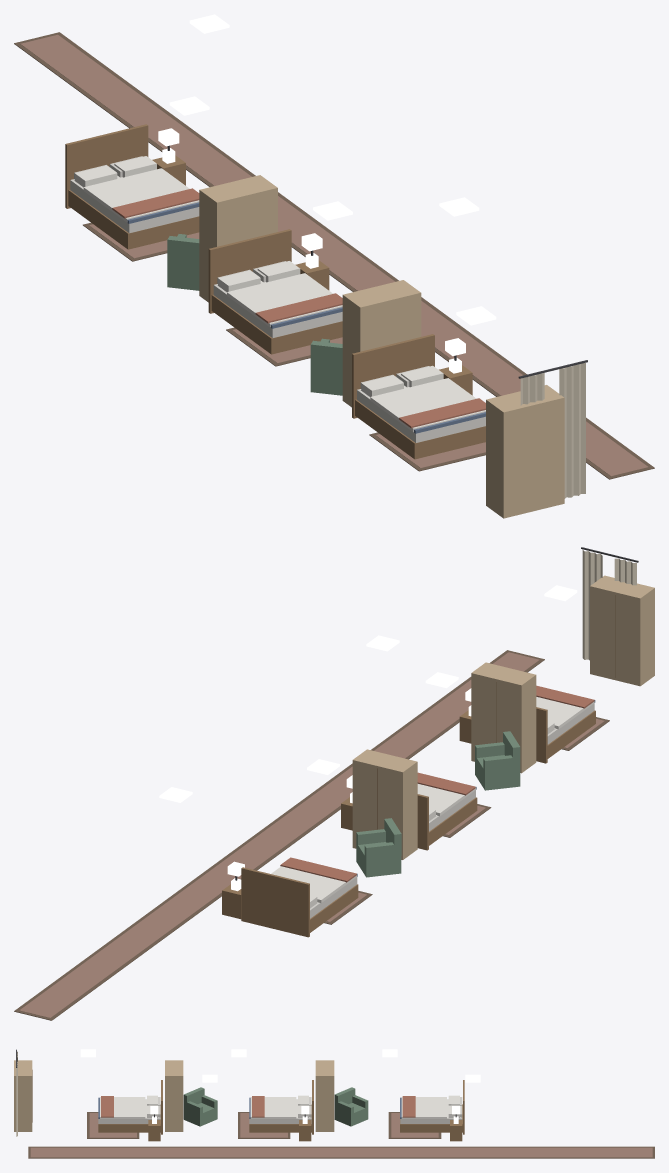
File: fine-s1.glb
3 views of the same model, one above another, from view 1: azimuth 30°, elevation 25°; view 2: azimuth 150°, elevation 25°; view 3: azimuth 270°, elevation 25° (orthographic). The views are drawn at different scales.
Visible parts, largest first — view 1: soft-s1, dresser.002, bed-frame.000, bed-frame.001, bed-frame.002, dresser.001, dresser.000, lounge-chair.000, lounge-chair.001; view 2: soft-s1, dresser.002, dresser.000, dresser.001, bed-frame.000, lounge-chair.001, lounge-chair.000, bed-frame.001, bed-frame.002, nightstand.000; view 3: soft-s1, dresser.000, dresser.001, dresser.002, lounge-chair.000, lounge-chair.001, bed-frame.002, bed-frame.000, bed-frame.001, nightstand.000, nightstand.001, nightstand.002.
Part boxes in pixels (bbox=[...]): soft-s1: bbox=[14, 32, 654, 498]; dresser.002: bbox=[486, 385, 564, 518]; bed-frame.000: bbox=[65, 124, 199, 249]; bed-frame.001: bbox=[208, 229, 342, 354]; bed-frame.002: bbox=[352, 334, 485, 459]; dresser.001: bbox=[342, 280, 421, 407]; dresser.000: bbox=[199, 175, 277, 302]; lounge-chair.000: bbox=[167, 234, 199, 290]; lounge-chair.001: bbox=[310, 338, 342, 395]; soft-s1: bbox=[14, 547, 638, 1020]; dresser.002: bbox=[590, 575, 654, 686]; dresser.000: bbox=[352, 749, 417, 859]; dresser.001: bbox=[471, 662, 536, 773]; bed-frame.000: bbox=[241, 867, 358, 937]; lounge-chair.001: bbox=[475, 731, 520, 790]; lounge-chair.000: bbox=[356, 818, 401, 877]; bed-frame.001: bbox=[417, 787, 477, 850]; bed-frame.002: bbox=[536, 700, 595, 763]; nightstand.000: bbox=[222, 878, 241, 919]; soft-s1: bbox=[16, 1049, 654, 1158]; dresser.000: bbox=[315, 1060, 334, 1131]; dresser.001: bbox=[165, 1060, 183, 1131]; dresser.002: bbox=[14, 1060, 32, 1131]; lounge-chair.000: bbox=[334, 1087, 368, 1126]; lounge-chair.001: bbox=[183, 1087, 217, 1126]; bed-frame.002: bbox=[98, 1080, 162, 1134]; bed-frame.000: bbox=[400, 1080, 464, 1134]; bed-frame.001: bbox=[249, 1080, 313, 1134]; nightstand.000: bbox=[450, 1116, 462, 1141]; nightstand.001: bbox=[299, 1116, 311, 1141]; nightstand.002: bbox=[148, 1116, 160, 1141].
Size of the model in its own units: 3.55 by 2.68 by 20.79.
